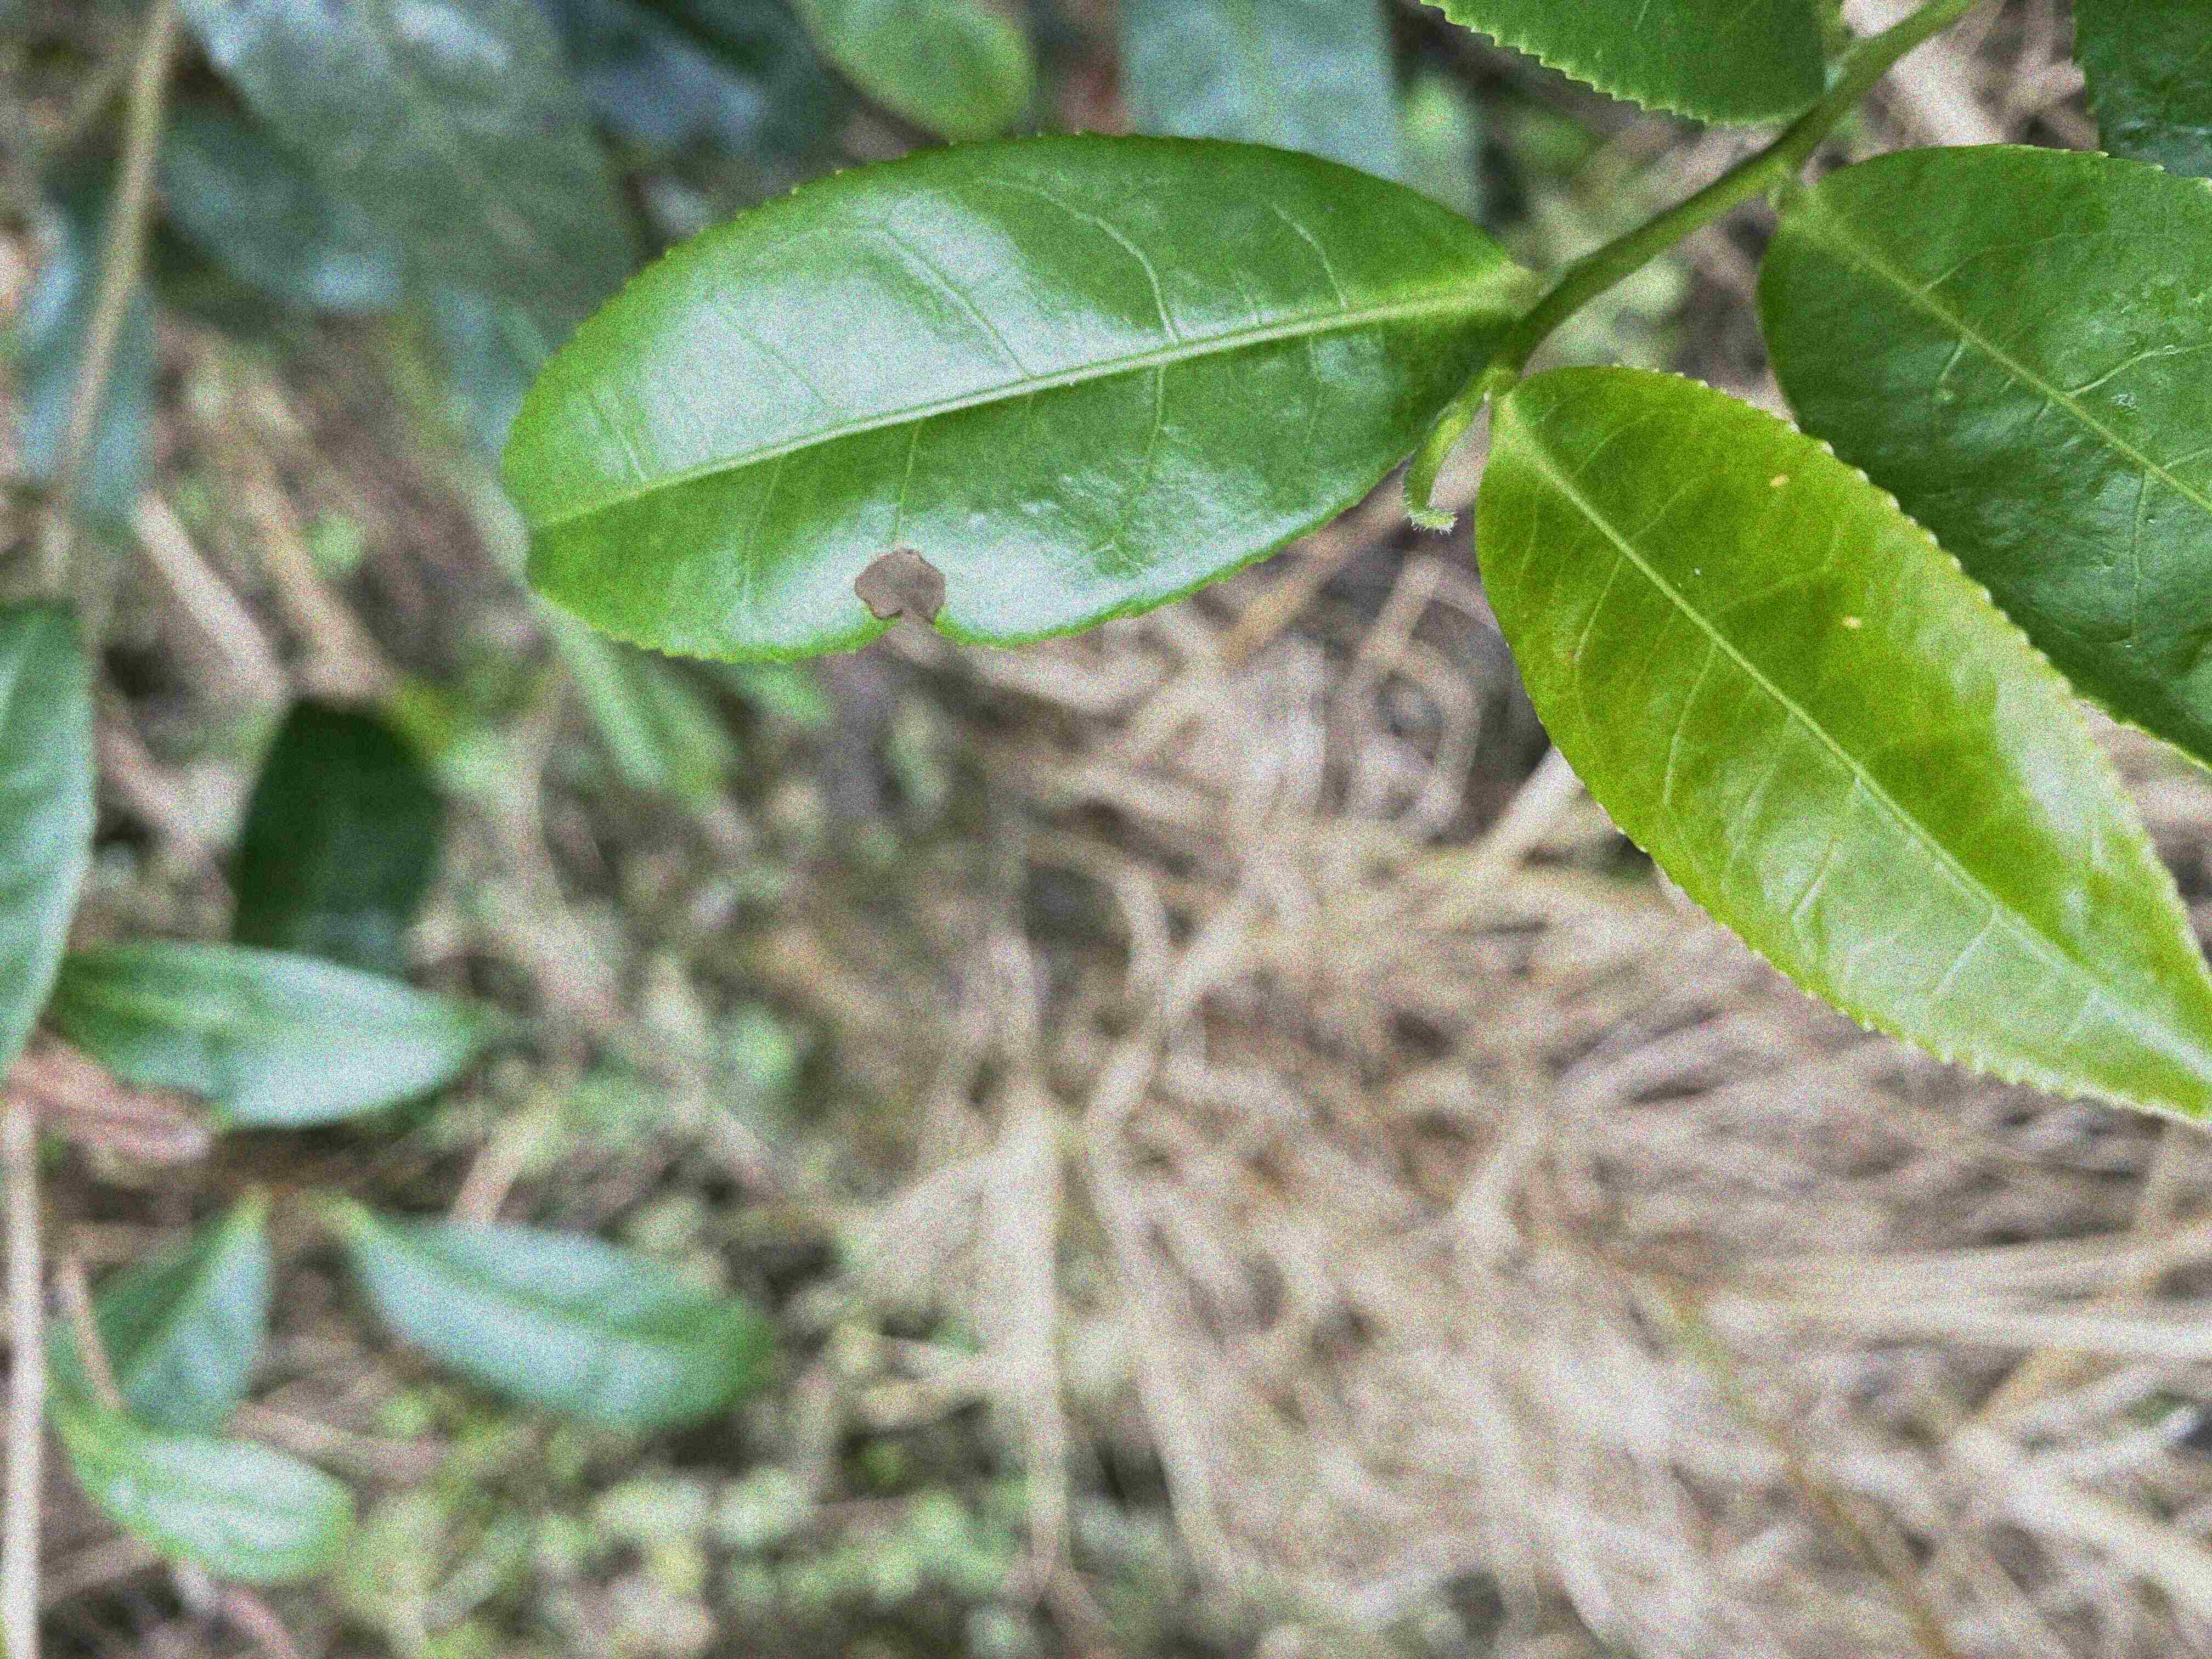chihuo_low: (496, 131, 1526, 664)
healthy: (1470, 357, 2209, 1127), (1754, 141, 2210, 772)
